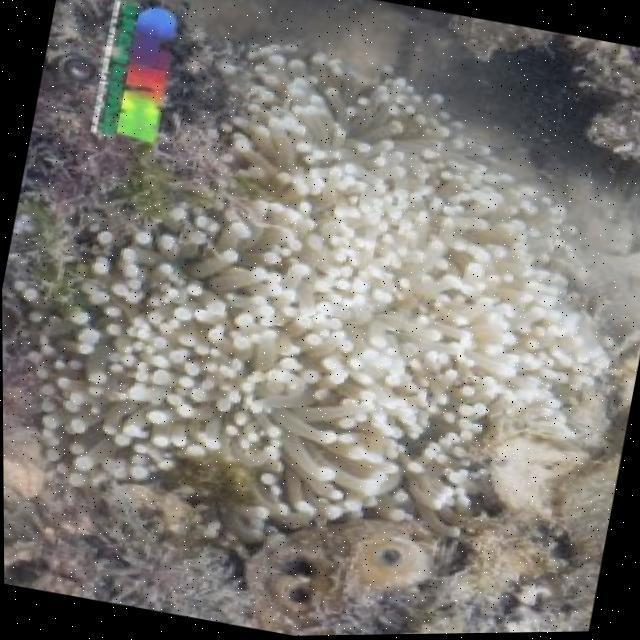Bleached Coral: (49, 11, 640, 608)
